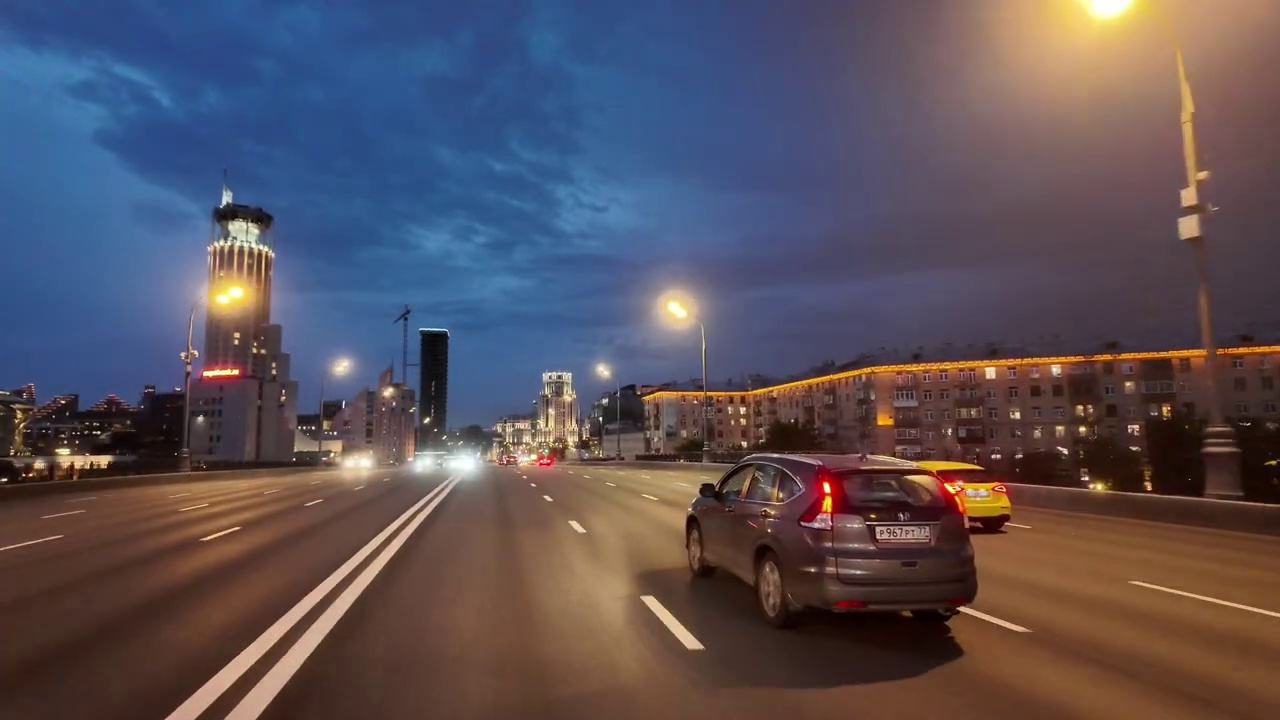acesa: (1061, 0, 1147, 36), (209, 278, 256, 317), (657, 289, 696, 330), (329, 354, 354, 378), (593, 360, 614, 381)
